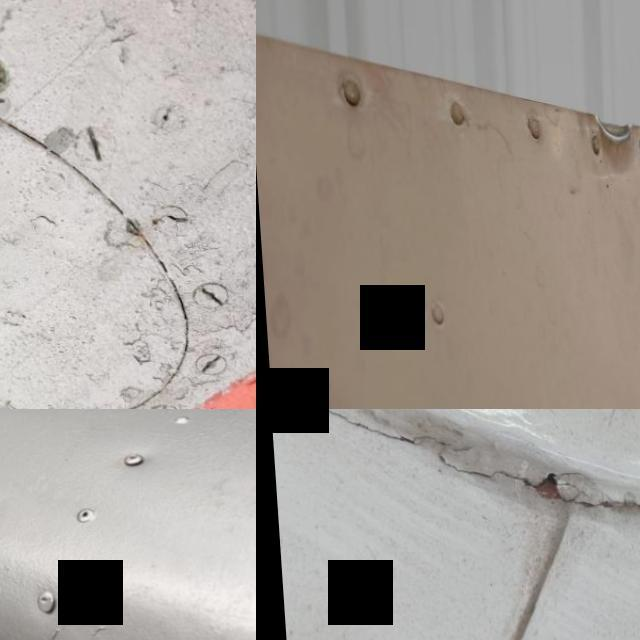Crack: (280, 409, 640, 566)
Dent: (592, 115, 629, 142)
Missing_Fastener: (0, 28, 41, 126)
